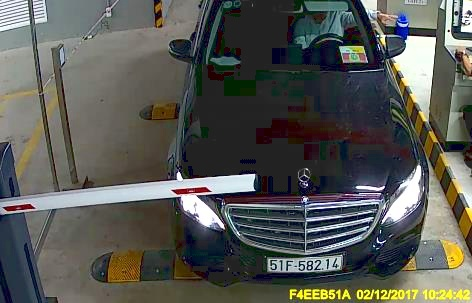plate: (265, 248, 346, 278)
